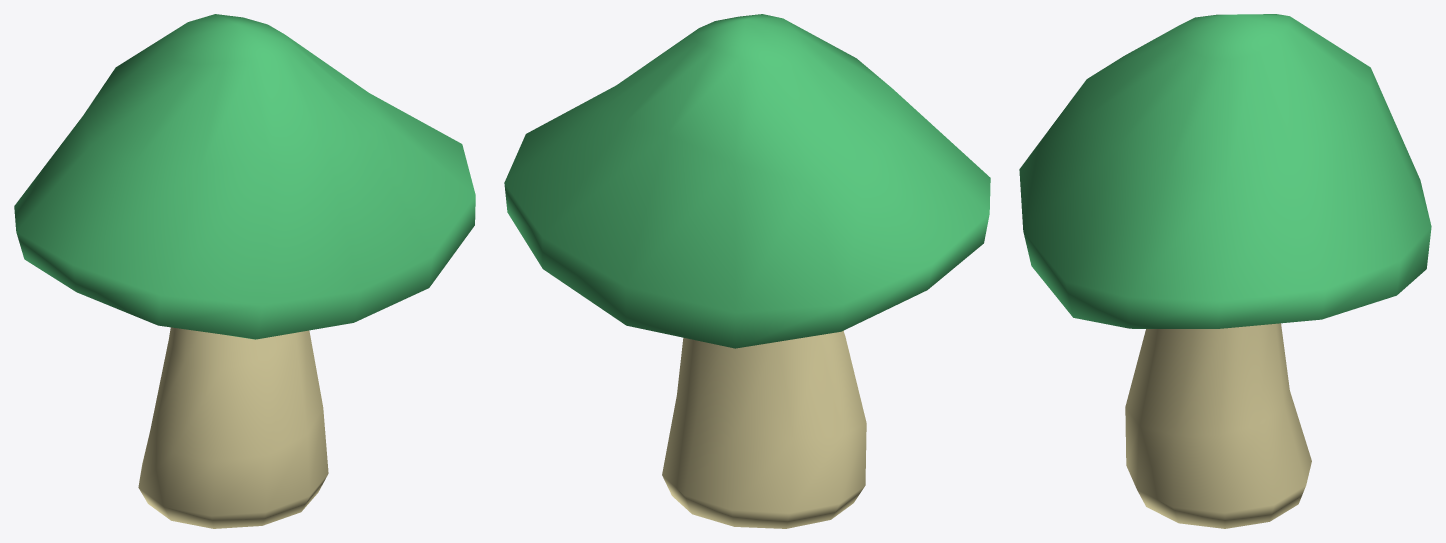
The model's file is mushroom_corupt.fbx.
3 views of the same model, side by side, from view 1: azimuth 30°, elevation 25°; view 2: azimuth 150°, elevation 25°; view 3: azimuth 270°, elevation 25° (orthographic). The views are drawn at different scales.
Parts seen in each view (by area): view 1: Mushroom_02_GEO; view 2: Mushroom_02_GEO; view 3: Mushroom_02_GEO.
Part boxes in pixels (x1=…): Mushroom_02_GEO: x1=14, y1=14, x2=475, y2=528; Mushroom_02_GEO: x1=504, y1=14, x2=990, y2=528; Mushroom_02_GEO: x1=1019, y1=14, x2=1431, y2=528.
Bounding box in the file's own units: 1.63 × 1.72 × 1.33.
